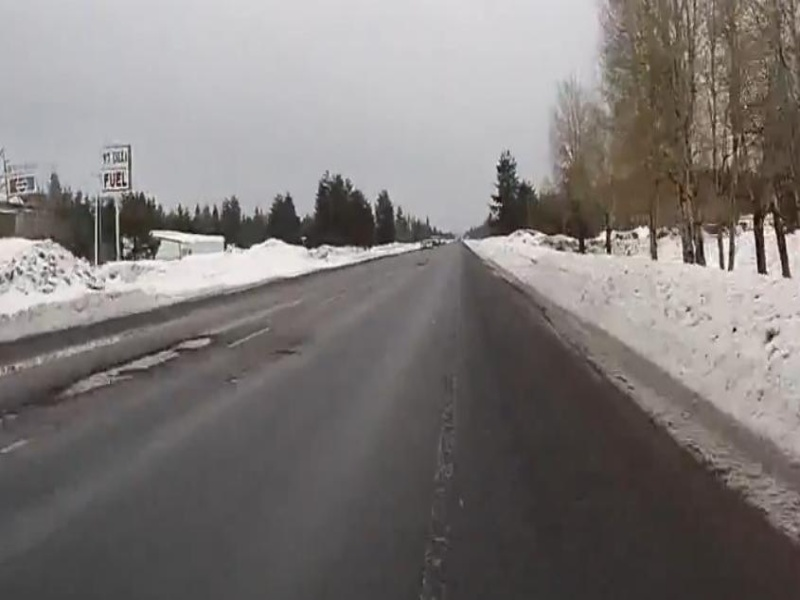pothole: (49, 348, 179, 405), (170, 334, 213, 351)
